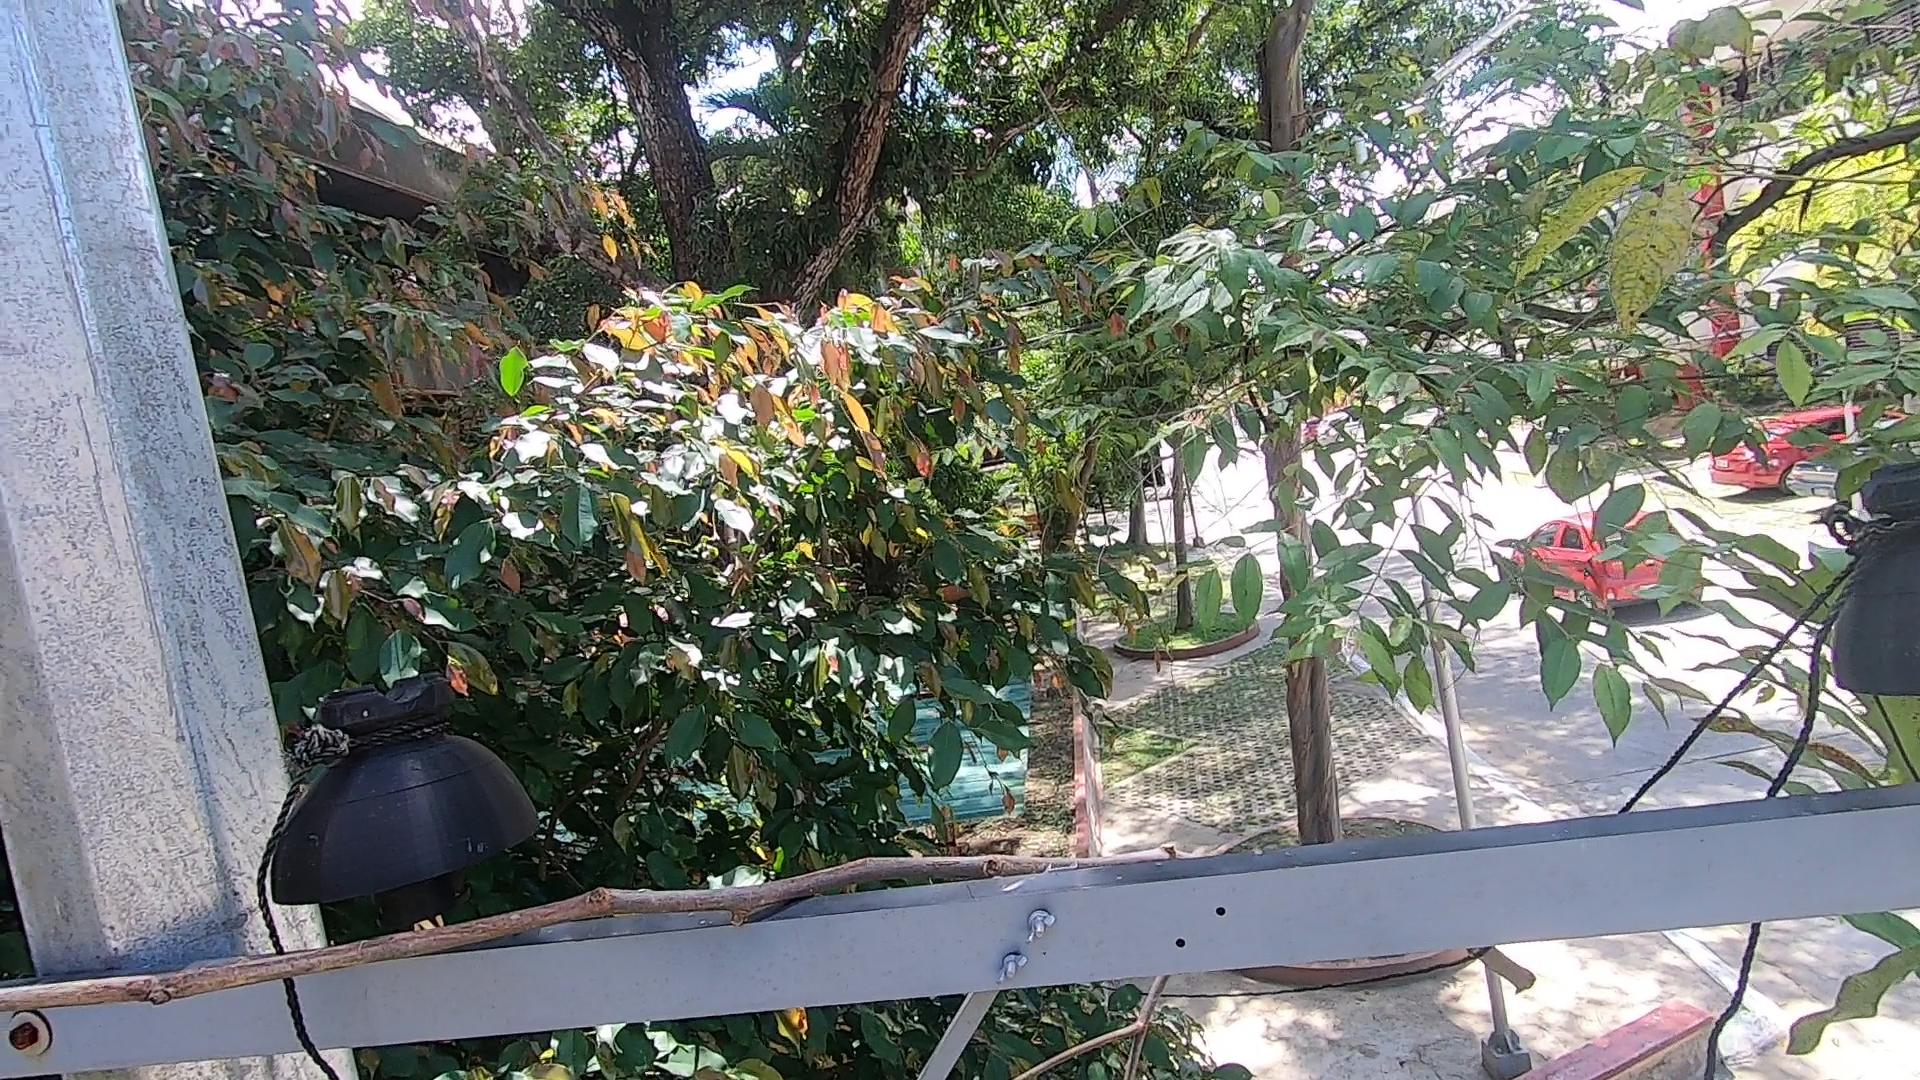tree branch: (1, 844, 1079, 1026), (1000, 969, 1179, 1080), (1455, 943, 1559, 1004)
